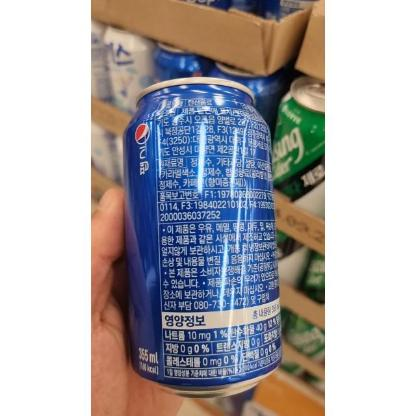Can: (121, 77, 280, 396)
